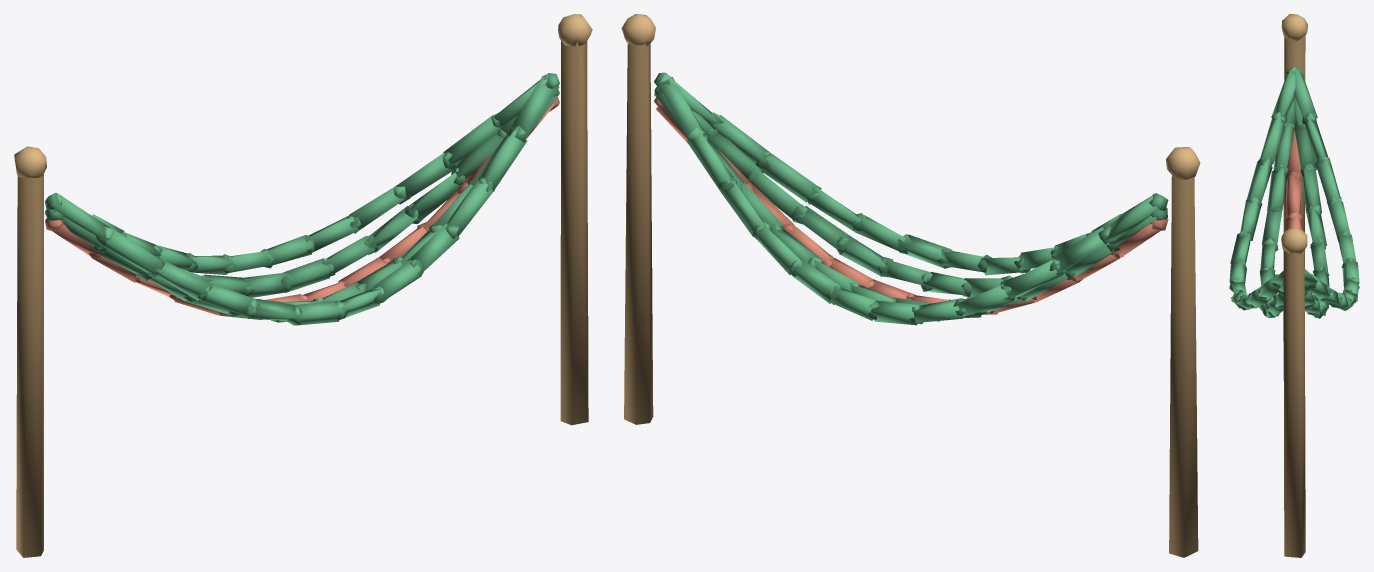
File: tropical--hammock.glb
3 views of the same model, side by side, from view 1: azimuth 30°, elevation 25°; view 2: azimuth 150°, elevation 25°; view 3: azimuth 270°, elevation 25° (orthographic). The views are drawn at different scales.
Parts seen in each view (by area): view 1: tropical--hammock; view 2: tropical--hammock; view 3: tropical--hammock.
Boxes of the visible parts, x1,y1,x2,y2 form: tropical--hammock: (14, 14, 592, 557); tropical--hammock: (621, 14, 1200, 557); tropical--hammock: (1229, 14, 1359, 557).
Bounding box in the file's own units: 2.32 × 1.56 × 0.568.
